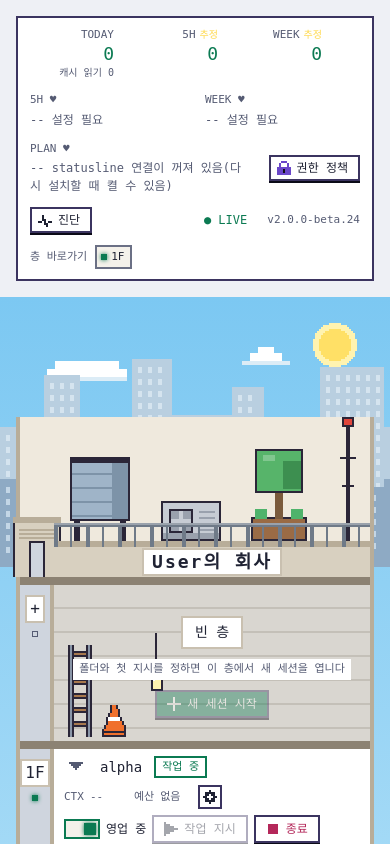
Scenario: 일시정지 층(§1.5·§1.6·§2) › 말풍선은 스위치를 누른 직후(스냅샷 전)에도 들고 있는 값으로 휴업 줄을 쓴다(B129 M1)
Click the switch named "alpha 영업" at (105, 829), box [64,819,146,839]
(page scrolled)
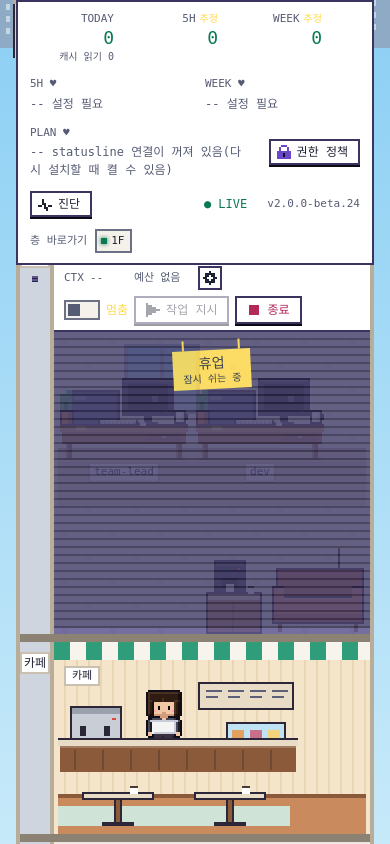
Hover over the button with test id "desk-dev" at (260, 423), box [194,340,326,506]
Wait 1000 ms
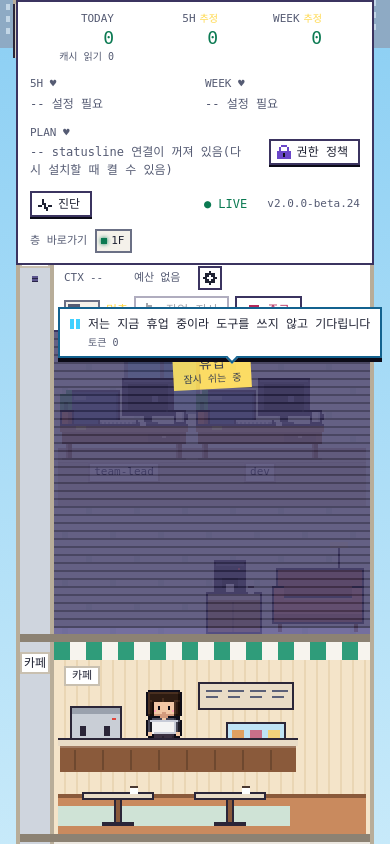
Expected: the tooltip shows "저는 지금 휴업 중이라 도구를 쓰지 않고 기다립니다", [88,317,370,331]
